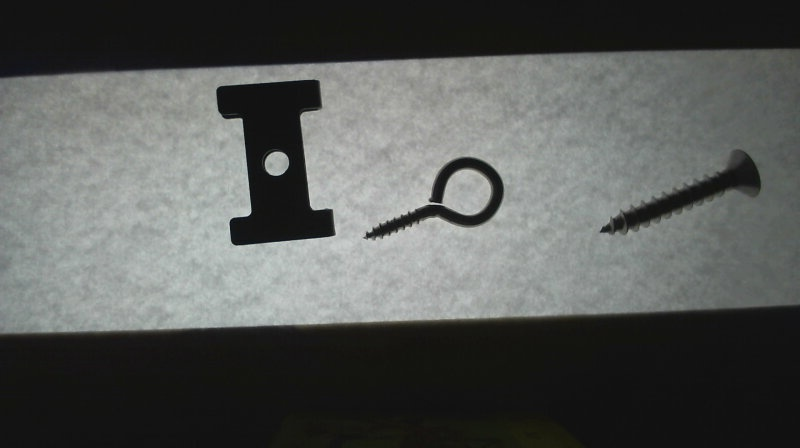O001: (357, 152, 508, 242)
O002: (209, 76, 338, 248)
S001: (594, 145, 763, 238)
